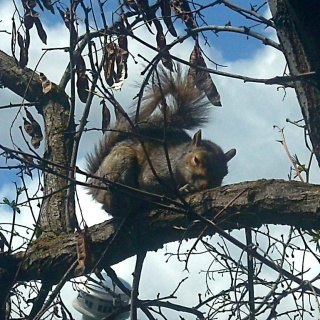Squirrel: (83, 63, 243, 220)
